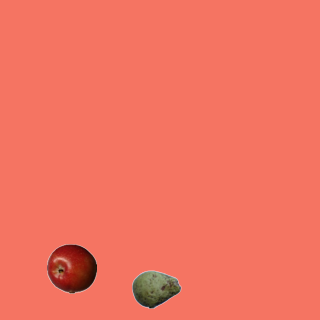Apple Braeburn: (46, 243, 96, 293)
Pear Stone: (131, 264, 181, 314)
